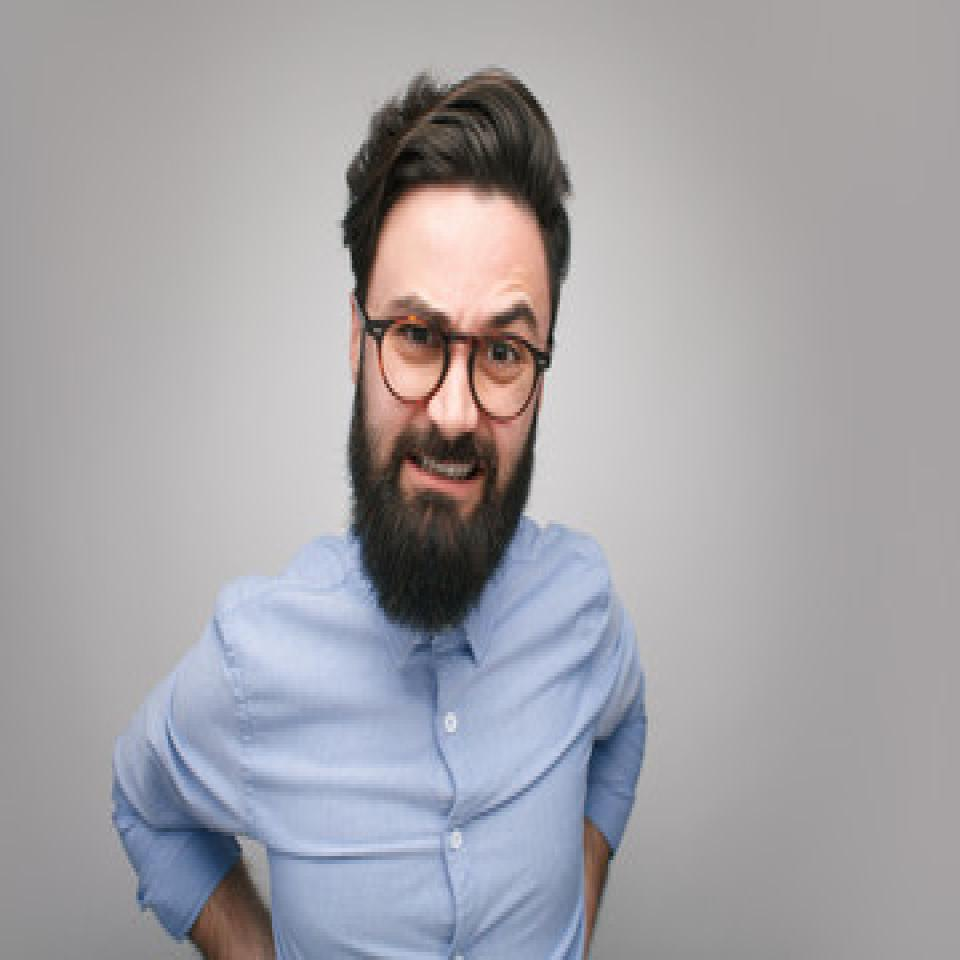Disgust: (349, 196, 550, 601)
